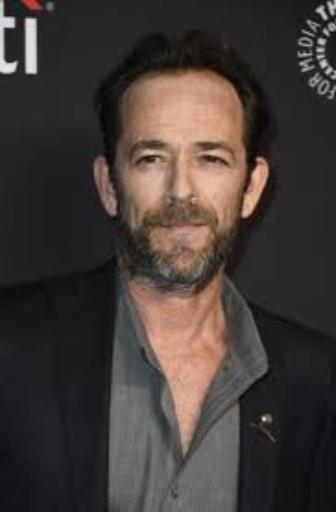left_eye: (198, 150, 231, 170)
left_lip_corner: (197, 217, 211, 233)
right_eye: (134, 154, 167, 173)
right_lip_corner: (151, 219, 170, 234)
